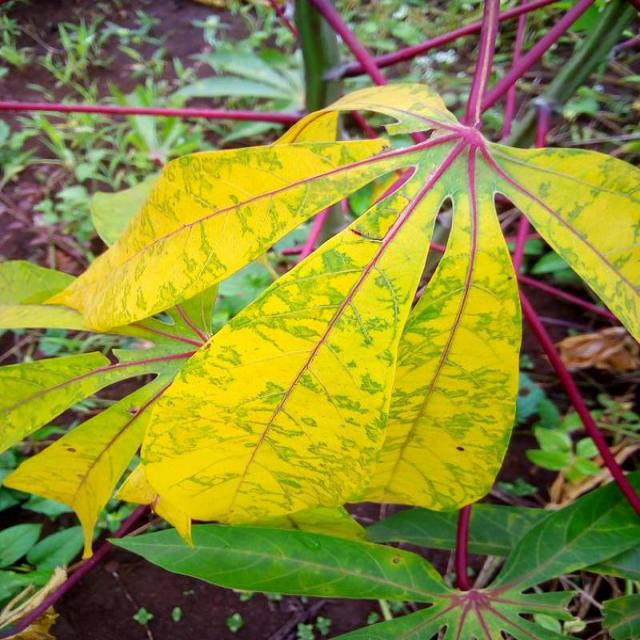cassava leaf: (41, 78, 636, 542), (42, 131, 396, 334)
